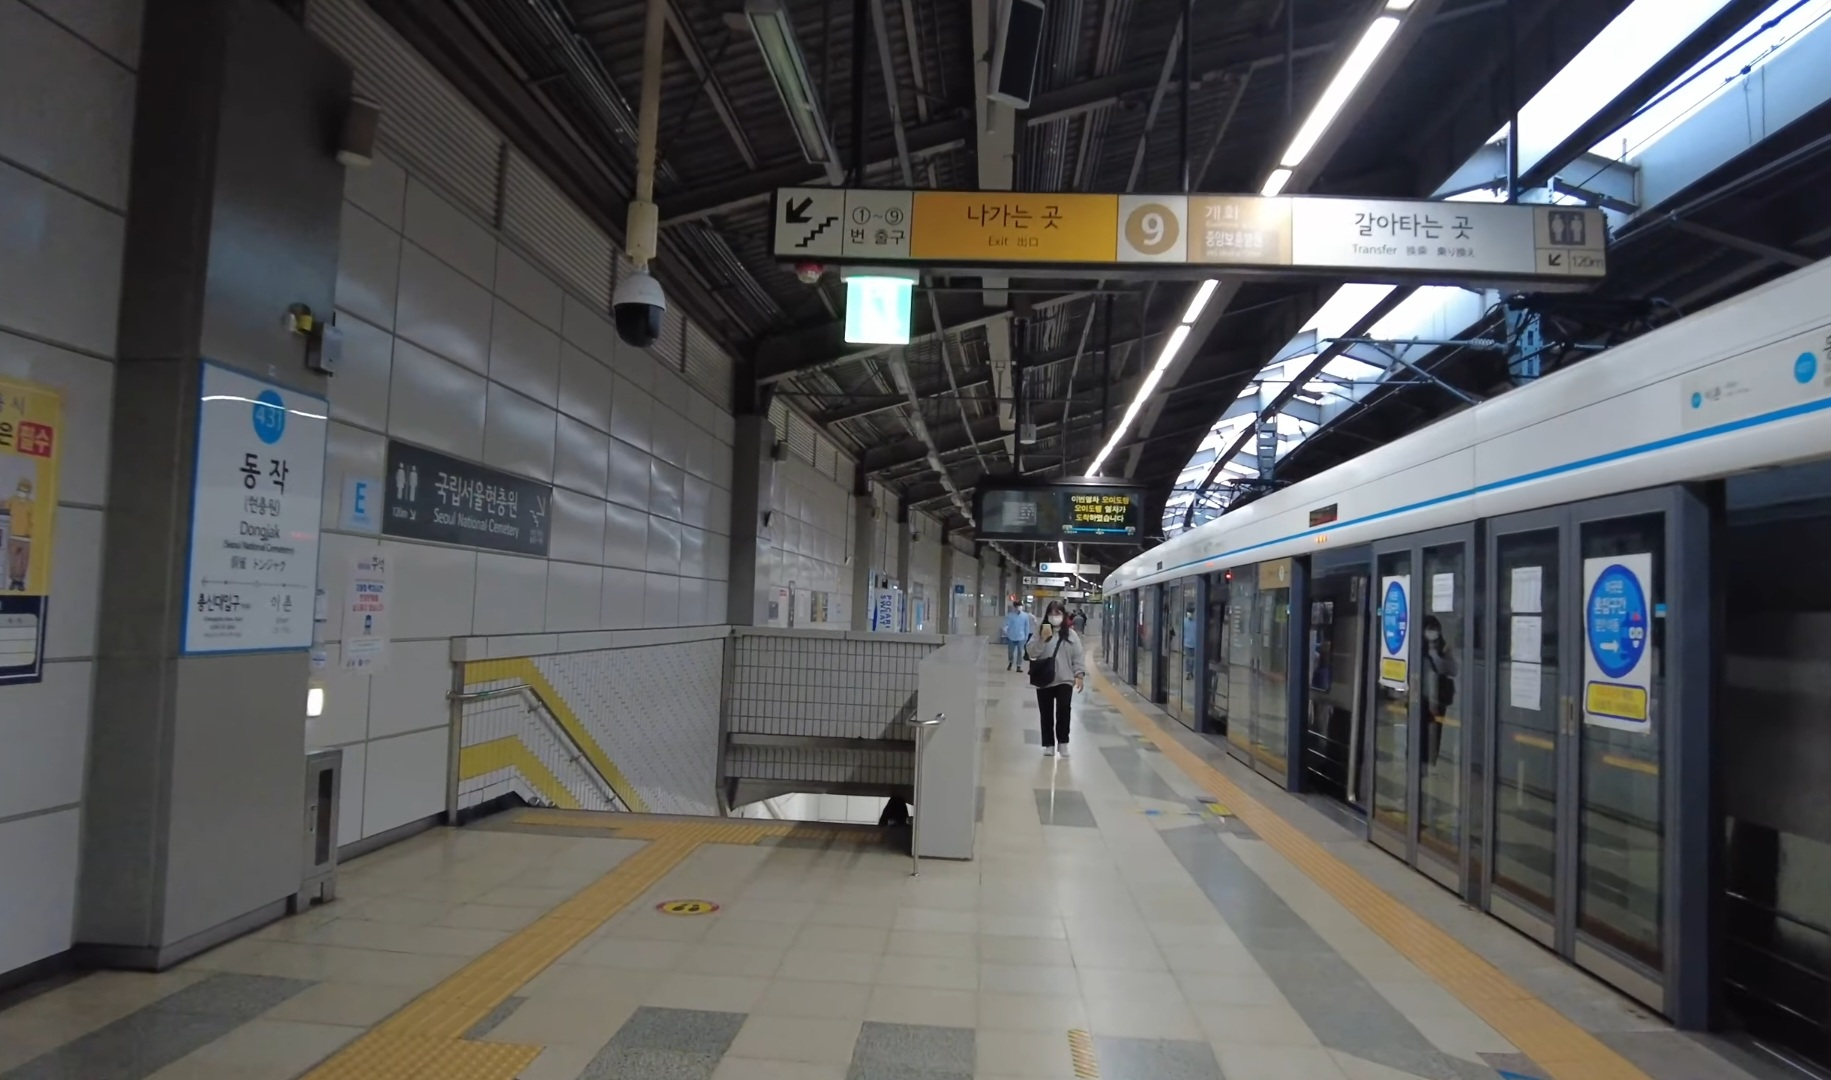signBoard: (747, 130, 1641, 297)
